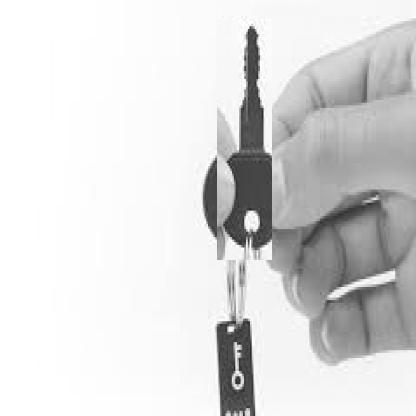key: (217, 19, 272, 260), (228, 340, 245, 398)
